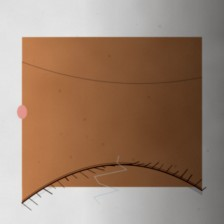foreign_body_visible: (45, 103, 87, 136)
